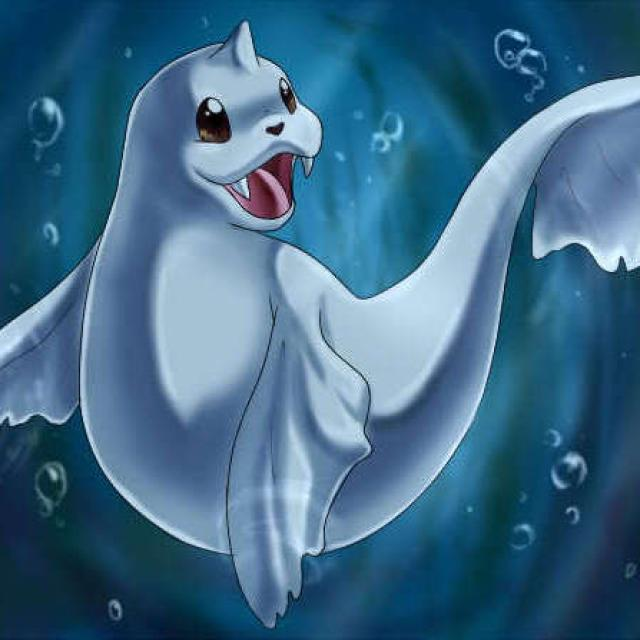Dewgong: (32, 21, 552, 552)
